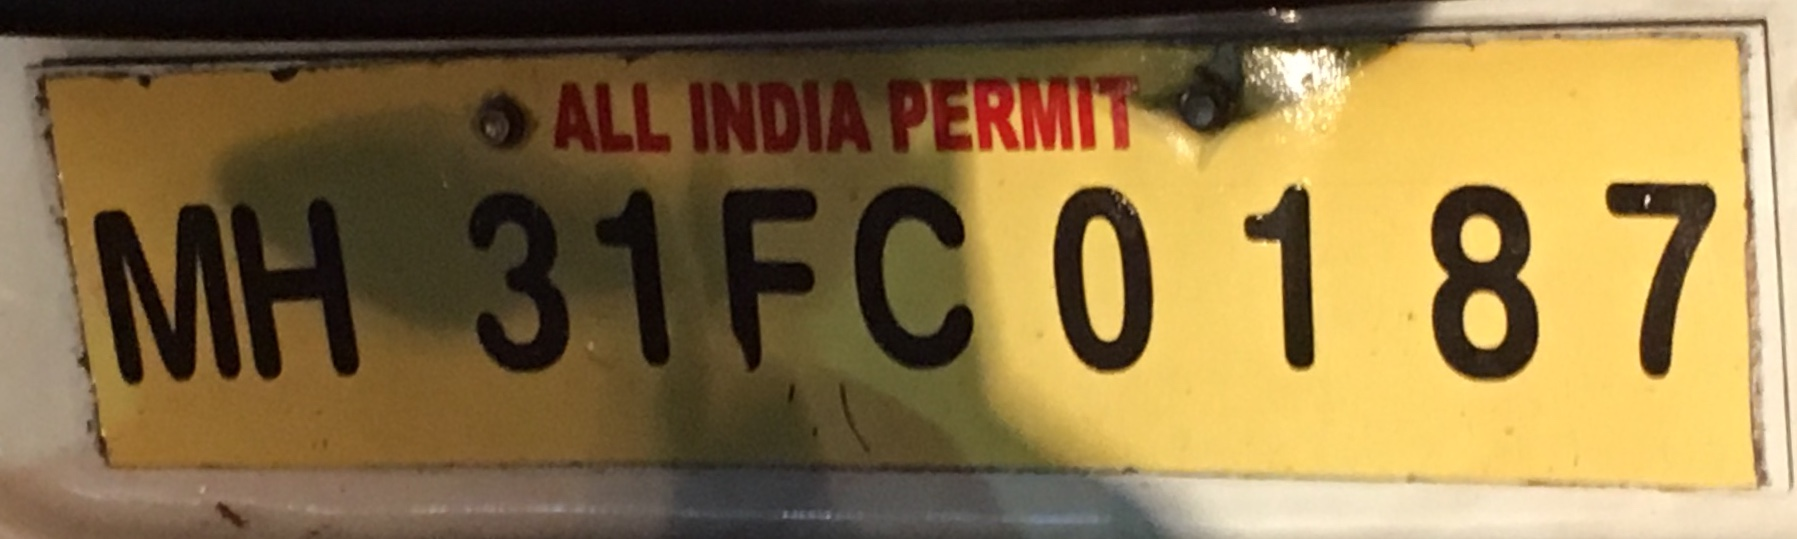numberplate: (42, 23, 1777, 497)
